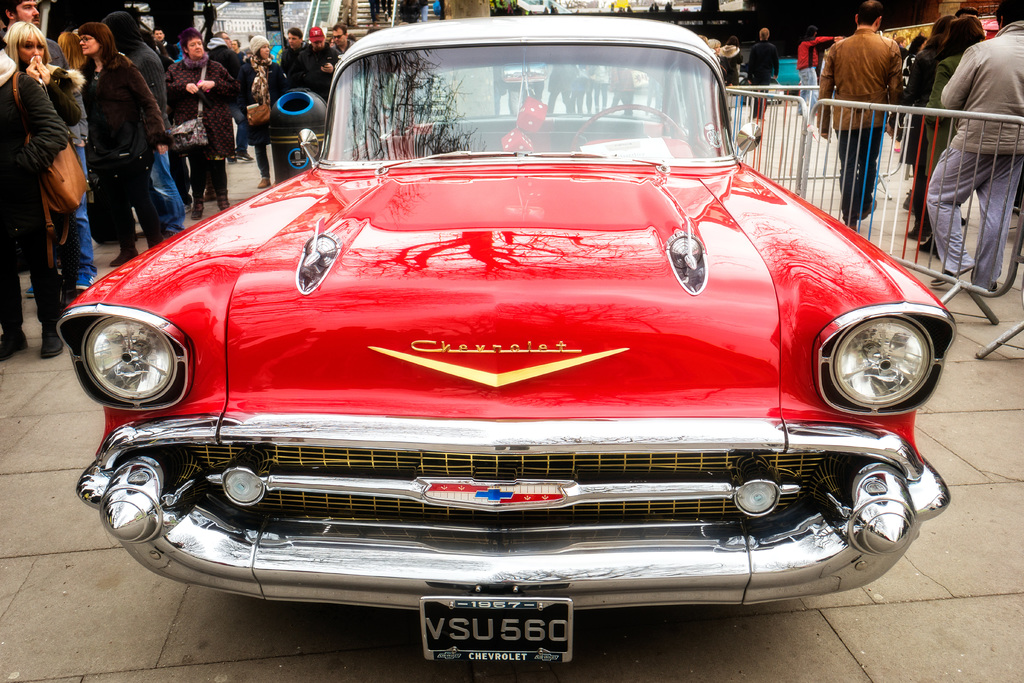person: (274, 25, 315, 84)
